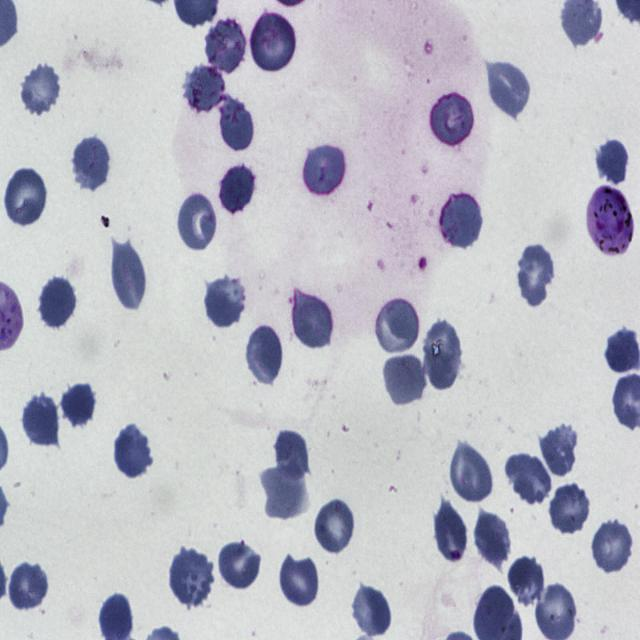red blood cell: (448, 440, 496, 506), (249, 11, 298, 75), (421, 318, 463, 392), (108, 237, 148, 314), (504, 449, 554, 508), (428, 88, 476, 149), (168, 547, 215, 609), (287, 295, 338, 352), (258, 463, 308, 521), (3, 166, 48, 230), (374, 295, 421, 356), (484, 59, 532, 118), (515, 243, 556, 309), (312, 496, 357, 556), (381, 351, 429, 407), (205, 16, 248, 77), (177, 190, 219, 252), (245, 323, 285, 388), (590, 516, 634, 575), (438, 192, 482, 251), (433, 496, 470, 566), (216, 537, 262, 592), (472, 507, 513, 568), (278, 550, 321, 608), (19, 60, 62, 118), (112, 423, 154, 480), (71, 134, 112, 192), (202, 274, 246, 328), (549, 482, 592, 536), (351, 584, 394, 638), (184, 63, 229, 114), (8, 559, 50, 613), (506, 554, 546, 610), (536, 424, 578, 477), (22, 393, 62, 448), (302, 146, 346, 195), (39, 274, 78, 329), (218, 95, 255, 152), (219, 160, 256, 214), (275, 432, 313, 481), (60, 382, 96, 431), (596, 138, 630, 187)
schizont: (586, 185, 634, 257)
